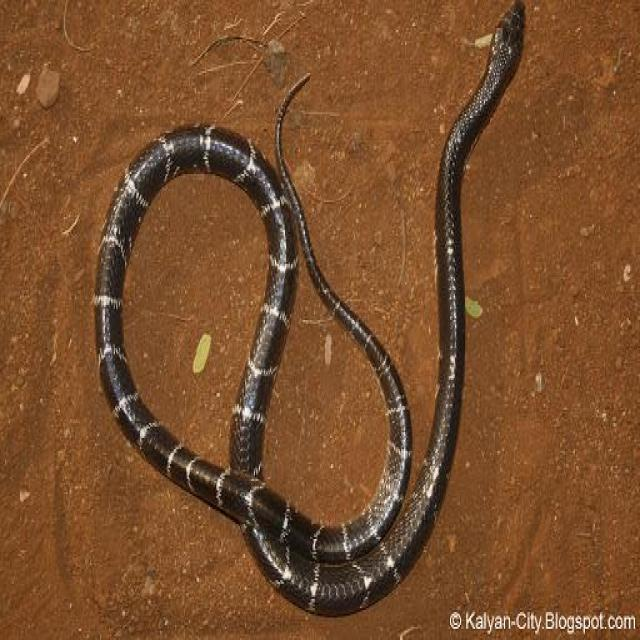Snake: (91, 0, 526, 618)
